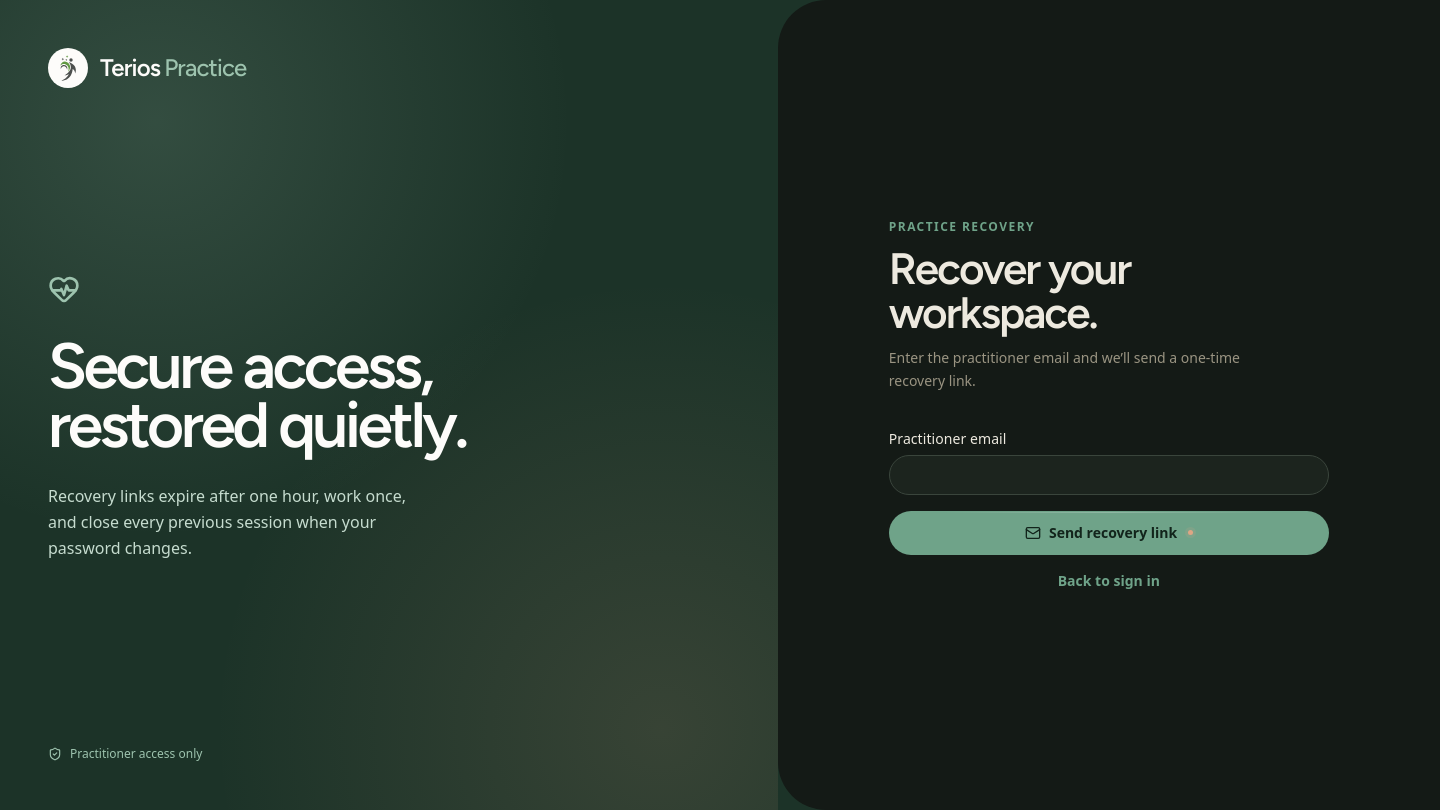
Test: practitioner password recovery request › sends the recovery request and confirms without naming the account
Type "practice@example.com" into the field labelled "Practitioner email" at (1109, 475), box [889,455,1329,495]
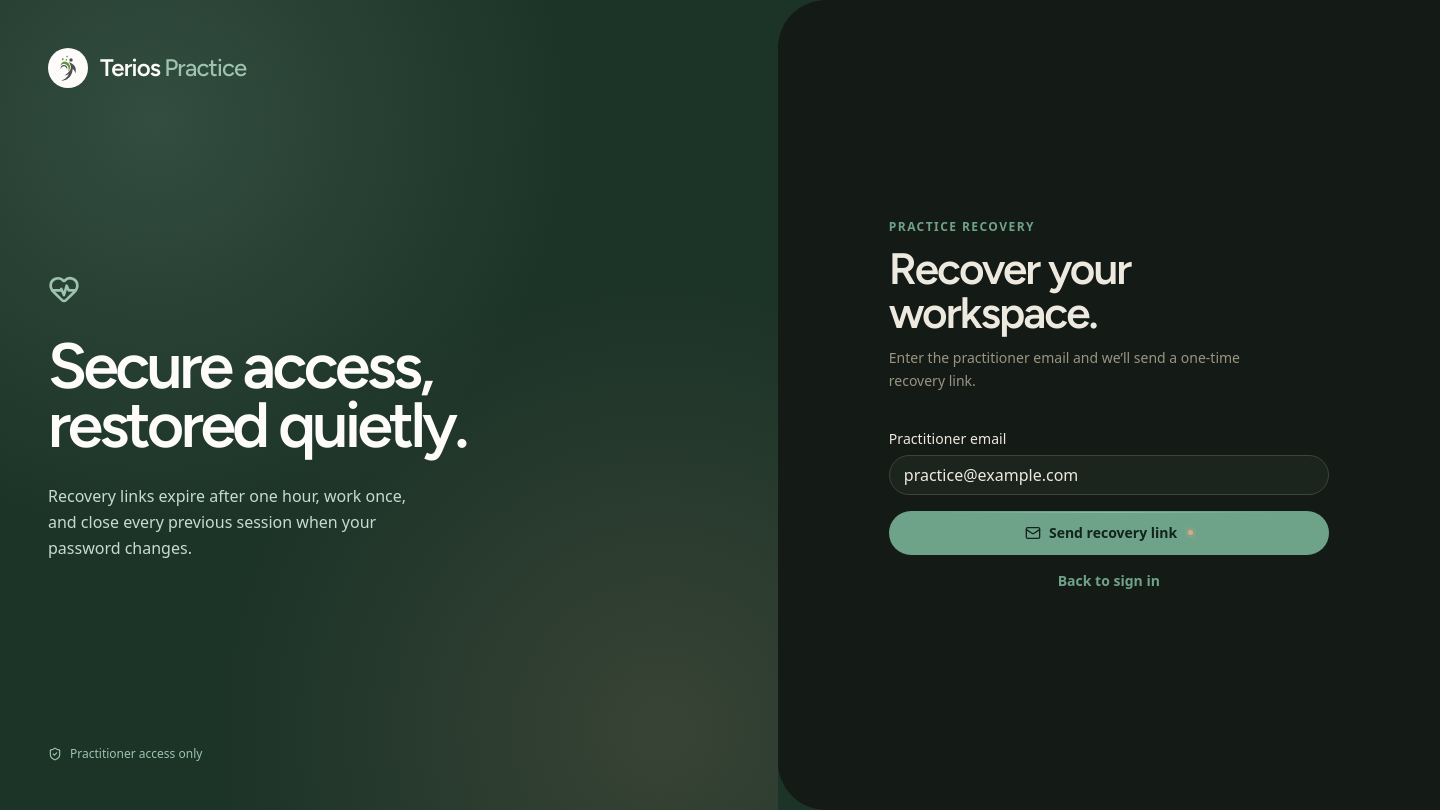
Click the button "Send recovery link" at (1109, 533), box [889,511,1329,555]
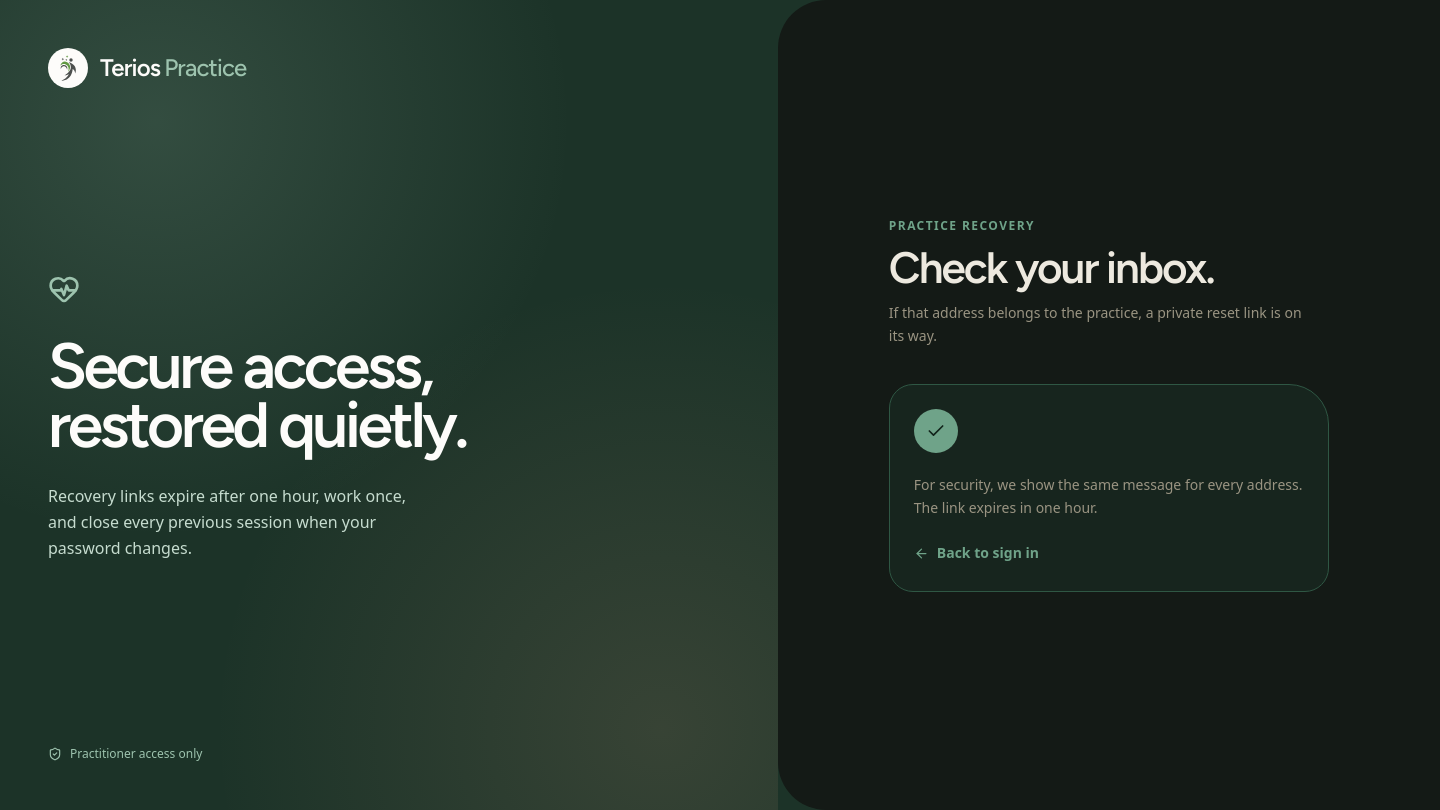
Now the heading "Check your inbox." is shown, box [889,241,1214,294]
Now the text "If that address belongs to the practice" is shown, box [889,303,1302,345]
Now the text "same message for every address" is shown, box [914,475,1302,517]
